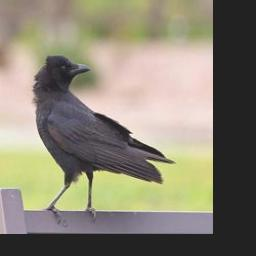Crow: (31, 53, 177, 222)
